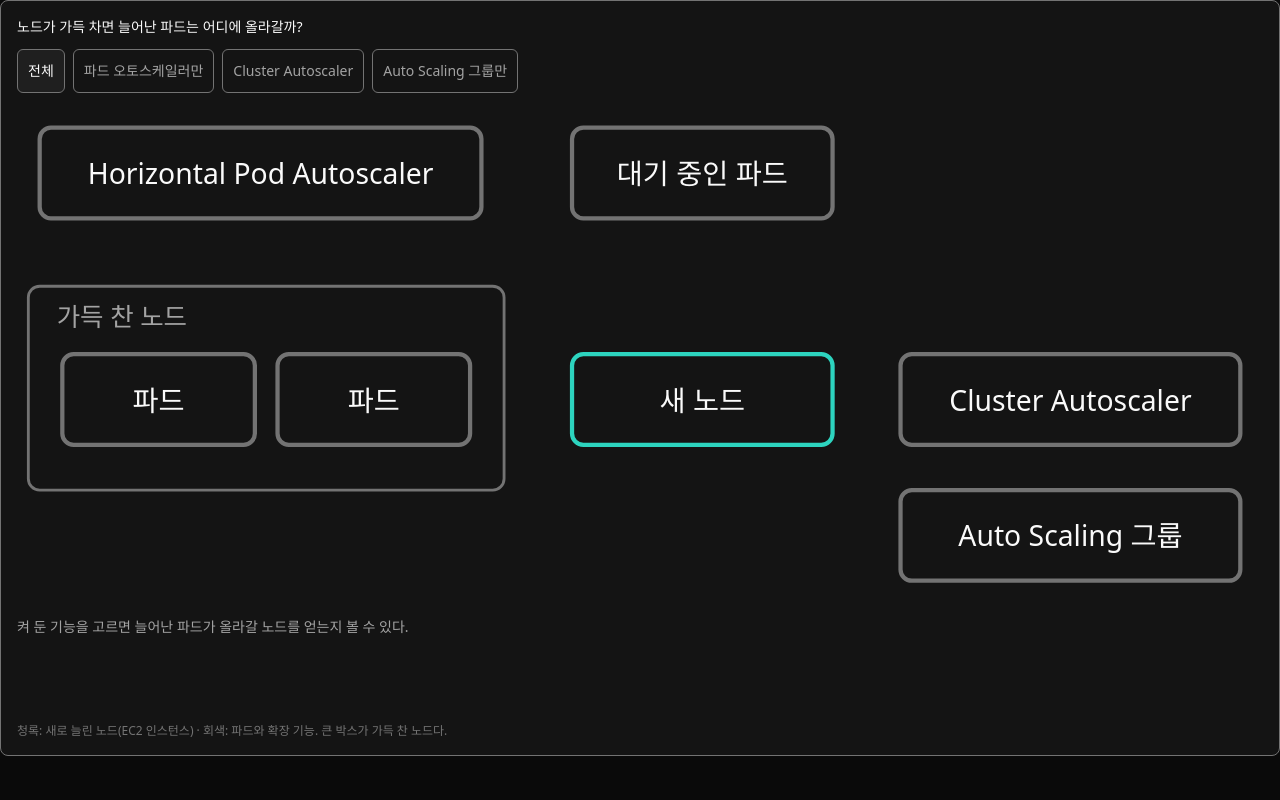
Test: EksScalingDiagram › 가로형 (768px 이상) › Cluster Autoscaler: 세로형과 같은 노드·경로·곁말·캡션을 보이고 곁말은 노드·그룹 라벨·경로와 겹치지 않는다
The image size is (1280, 800).
Click the button "Cluster Autoscaler": [293, 71] box [222, 49, 364, 93]
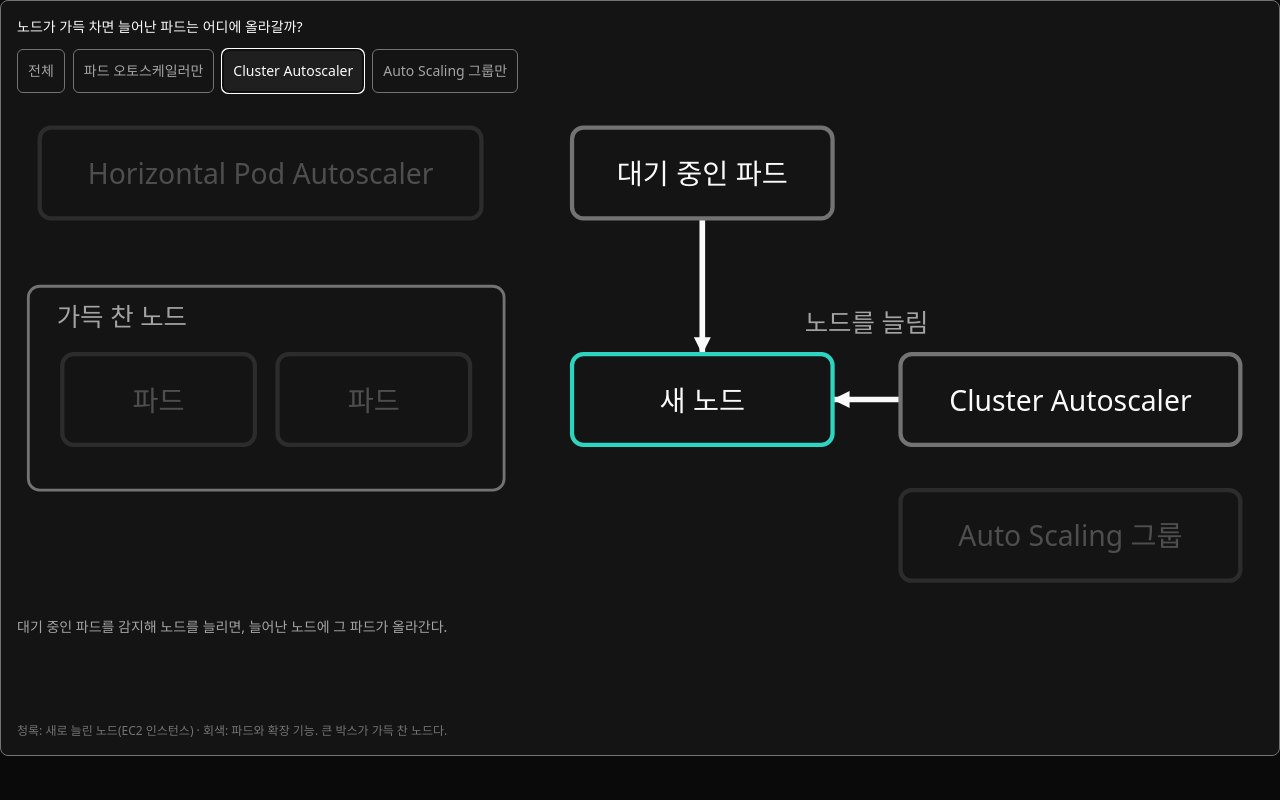
Check: the text "대기 중인 파드를 감지해 노드를 늘리면, 늘어난 노드에 그 파드가 올라간다." is shown, box [17, 617, 447, 636]
